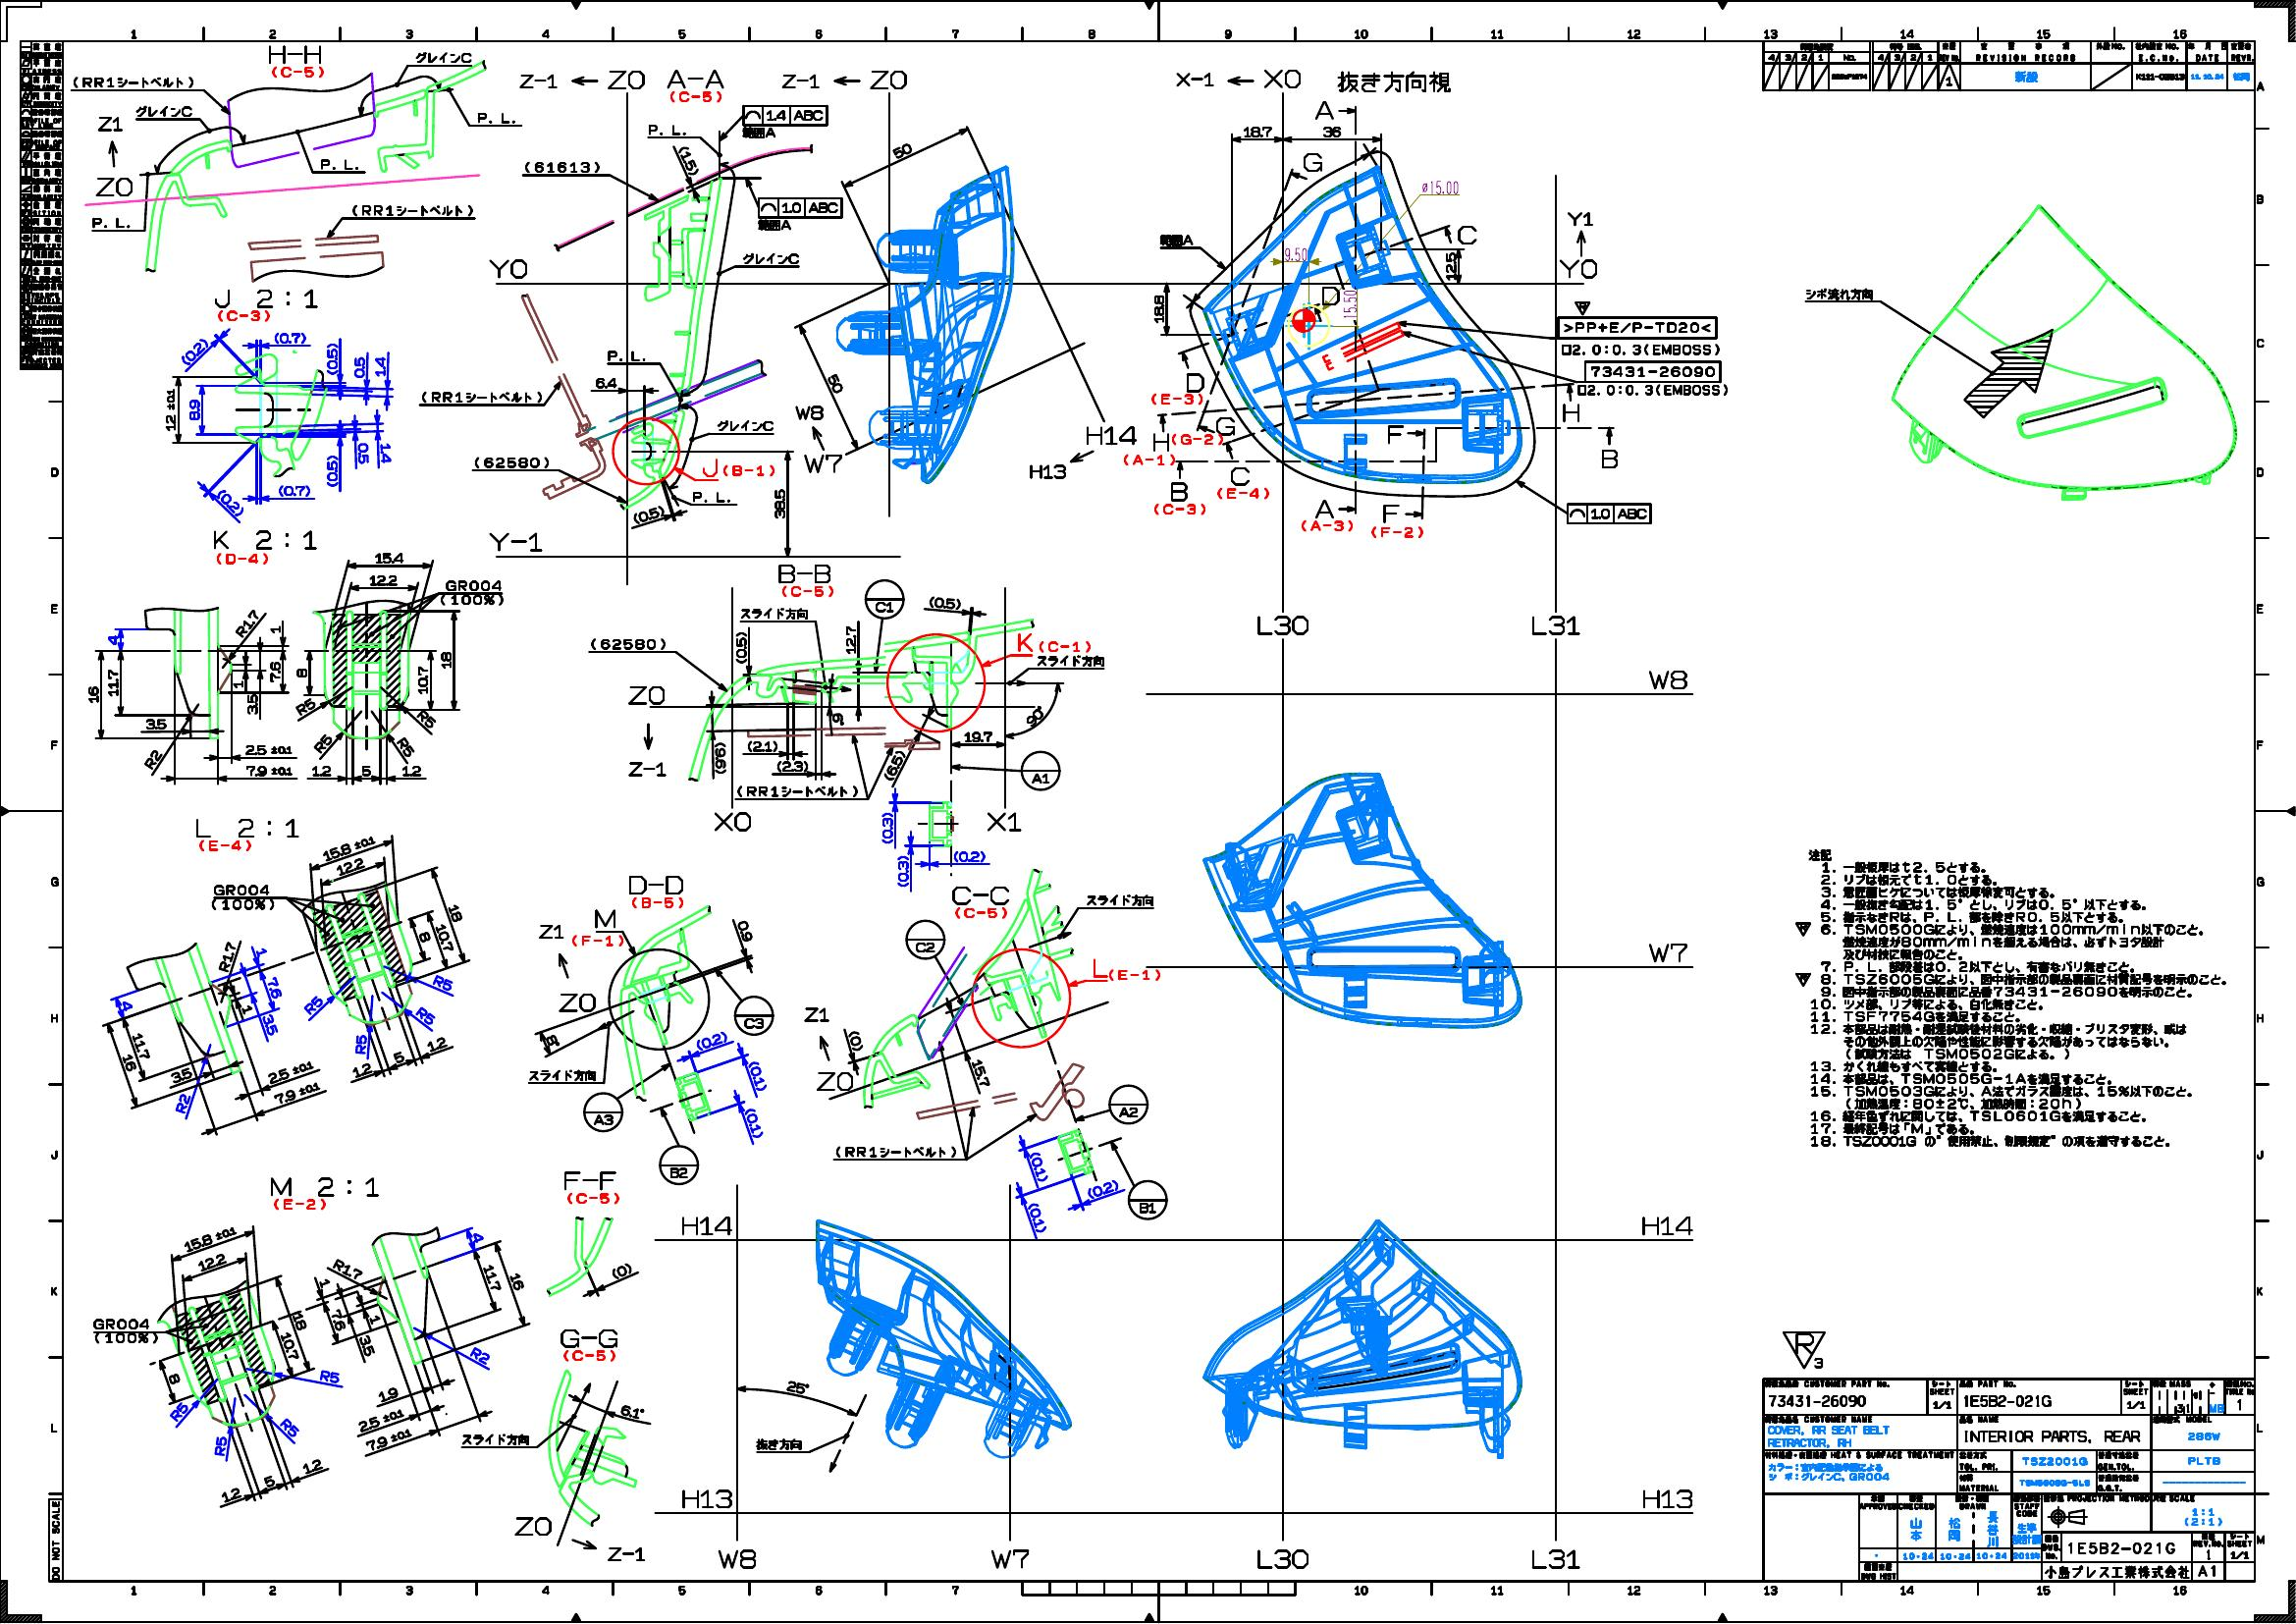anntotation_text: (1794, 847, 2227, 1149), (1556, 301, 1723, 357), (1026, 425, 1137, 480), (1574, 360, 1730, 395), (269, 1174, 379, 1211), (213, 529, 318, 566), (213, 286, 318, 322), (794, 404, 845, 475), (195, 817, 299, 851), (516, 65, 645, 90), (757, 195, 845, 230), (741, 104, 829, 139), (95, 114, 132, 197), (1558, 207, 1600, 279), (780, 69, 906, 90), (1337, 70, 1451, 93), (559, 1327, 620, 1362), (562, 1169, 620, 1206), (571, 909, 624, 947), (1151, 482, 1209, 517), (666, 69, 724, 104), (776, 562, 833, 598), (1149, 371, 1205, 406), (269, 44, 325, 79), (950, 886, 1008, 919), (629, 874, 683, 909), (1121, 431, 1175, 466), (1370, 504, 1425, 540), (1170, 417, 1237, 445), (439, 578, 504, 606), (91, 1316, 156, 1345), (1216, 466, 1270, 499), (1298, 499, 1353, 533), (1107, 1083, 1149, 1125), (1091, 958, 1163, 982), (1128, 1178, 1168, 1220), (834, 1144, 956, 1158), (905, 917, 945, 960), (581, 1091, 624, 1132), (657, 1144, 699, 1185), (1021, 749, 1061, 791), (72, 74, 193, 88), (733, 995, 775, 1035), (1781, 1330, 1825, 1369), (422, 390, 541, 404), (211, 884, 274, 910), (864, 578, 905, 619), (1567, 504, 1650, 524), (703, 457, 775, 478), (350, 204, 473, 216), (736, 784, 857, 796), (1017, 633, 1089, 652), (487, 531, 545, 554), (1256, 1547, 1309, 1570), (680, 1213, 733, 1236), (1641, 1214, 1693, 1236), (1256, 613, 1309, 634), (1641, 1489, 1692, 1510), (590, 636, 666, 650), (1532, 1548, 1581, 1570), (682, 1489, 733, 1508), (1806, 286, 1874, 301), (1086, 893, 1154, 907), (740, 606, 808, 620), (1532, 615, 1581, 634), (474, 455, 550, 468), (523, 160, 599, 172), (488, 257, 529, 279), (1648, 670, 1688, 691), (462, 1432, 531, 1445), (1036, 654, 1105, 666), (986, 810, 1022, 833), (529, 1069, 596, 1081), (991, 1548, 1029, 1570), (717, 1548, 755, 1570), (513, 1515, 552, 1536), (815, 1070, 854, 1091), (557, 991, 596, 1012), (717, 418, 773, 432), (1648, 942, 1688, 961), (713, 810, 750, 831), (627, 684, 664, 705), (741, 251, 799, 264), (1263, 69, 1300, 88), (415, 51, 473, 63), (135, 104, 193, 116), (606, 1545, 646, 1562), (755, 1436, 803, 1450), (627, 761, 666, 777), (1175, 70, 1214, 86), (690, 490, 733, 503), (606, 350, 646, 362), (320, 158, 360, 170), (90, 216, 130, 228), (1560, 401, 1581, 424), (648, 123, 687, 135), (803, 1005, 829, 1023), (478, 111, 515, 123), (1312, 100, 1335, 120), (1159, 234, 1193, 246), (1456, 225, 1477, 244), (1303, 153, 1323, 172), (1321, 286, 1340, 306), (538, 924, 564, 939), (1600, 448, 1618, 468), (1388, 424, 1404, 445)
dimension_text: (320, 842, 378, 854), (272, 1084, 321, 1098), (265, 1063, 314, 1077), (183, 1232, 237, 1244), (332, 1258, 364, 1280), (743, 1107, 764, 1139), (364, 1432, 413, 1445), (244, 743, 293, 756), (357, 1413, 404, 1425), (246, 765, 293, 777), (748, 1060, 766, 1091), (279, 1332, 299, 1360), (696, 1032, 729, 1048), (483, 1262, 501, 1292), (1421, 179, 1458, 193), (132, 1032, 149, 1058), (713, 742, 727, 773), (165, 388, 176, 431), (973, 1058, 987, 1088), (734, 631, 747, 664), (278, 483, 311, 496), (177, 344, 211, 357), (469, 1346, 490, 1366), (169, 1401, 188, 1422), (1342, 290, 1356, 318), (221, 940, 234, 972), (880, 812, 892, 844), (878, 759, 910, 772), (776, 759, 808, 772), (747, 740, 778, 752), (929, 596, 961, 608), (232, 617, 264, 629), (214, 496, 246, 508), (274, 332, 306, 344), (632, 508, 664, 520), (673, 155, 704, 167), (279, 1417, 299, 1436), (429, 932, 458, 944), (336, 859, 365, 872), (1087, 1183, 1117, 1195), (896, 856, 908, 886), (374, 552, 404, 564), (107, 668, 119, 698), (773, 489, 785, 518), (358, 1334, 374, 1357), (330, 1308, 346, 1330), (170, 1067, 193, 1083), (174, 1091, 190, 1114), (738, 919, 754, 942), (783, 1380, 808, 1394), (620, 1404, 645, 1418), (416, 666, 429, 694), (369, 575, 397, 587), (611, 1262, 631, 1280), (378, 1387, 399, 1403), (954, 851, 986, 861), (327, 455, 337, 487), (327, 343, 337, 374), (1284, 246, 1307, 260), (197, 1257, 227, 1267), (963, 731, 993, 742), (845, 626, 856, 656), (1242, 127, 1272, 137), (1446, 251, 1456, 281), (221, 1487, 241, 1503), (269, 975, 281, 1000), (213, 1434, 227, 1455), (264, 1014, 278, 1035), (1033, 1155, 1047, 1176), (1154, 295, 1165, 323), (1024, 710, 1047, 722), (357, 441, 369, 464), (379, 441, 392, 464), (374, 355, 386, 378), (292, 1313, 307, 1330), (121, 1053, 137, 1070), (509, 1271, 523, 1290), (320, 1369, 339, 1383), (1031, 1207, 1045, 1227), (351, 1063, 372, 1076), (850, 1030, 863, 1051), (269, 661, 281, 682), (246, 694, 258, 715), (142, 752, 163, 765), (146, 717, 167, 729), (188, 399, 200, 420), (353, 357, 365, 378), (824, 378, 845, 390), (892, 144, 913, 156), (427, 1037, 446, 1049), (295, 700, 314, 712), (311, 765, 330, 777), (402, 765, 422, 777), (416, 714, 437, 724), (596, 378, 617, 388), (446, 907, 464, 919), (439, 650, 451, 668), (302, 1461, 321, 1471), (395, 742, 415, 752), (313, 738, 332, 749), (546, 1033, 560, 1048), (88, 685, 98, 703), (1323, 127, 1340, 137), (833, 712, 845, 726), (262, 1475, 274, 1487), (369, 1315, 381, 1325), (318, 1278, 330, 1288), (473, 1232, 483, 1243), (169, 1373, 179, 1383), (393, 1051, 404, 1062), (420, 932, 430, 942), (121, 1000, 132, 1011), (256, 946, 265, 958), (362, 765, 371, 777), (295, 668, 307, 677), (269, 624, 281, 633), (232, 680, 244, 689)
object: (1188, 149, 1535, 497), (520, 142, 815, 511), (1890, 204, 2236, 501), (1200, 772, 1523, 1030), (137, 58, 487, 283), (1203, 1218, 1523, 1459), (859, 866, 1093, 1176), (813, 1218, 1073, 1459), (834, 163, 1015, 485), (687, 617, 1036, 782), (618, 903, 713, 1123), (156, 1280, 274, 1432), (302, 881, 415, 1030), (125, 942, 241, 1076), (313, 599, 411, 750), (548, 1367, 638, 1527), (234, 353, 329, 478), (144, 606, 220, 740), (371, 1225, 441, 1366), (546, 1216, 613, 1297)
title_block: (1764, 1378, 2256, 1582), (1764, 40, 2254, 90), (19, 40, 63, 369)
